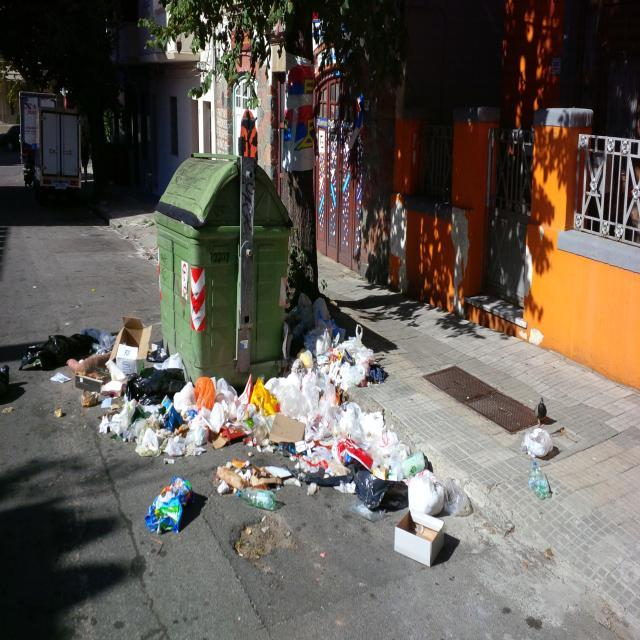garbage: (281, 289, 380, 492), (71, 287, 184, 462), (364, 422, 476, 573), (184, 350, 282, 514), (520, 386, 558, 513), (16, 324, 97, 369), (143, 474, 195, 544), (0, 356, 13, 409)
